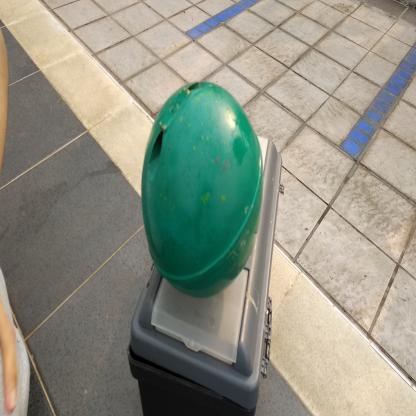green_buoy: (136, 72, 267, 301)
